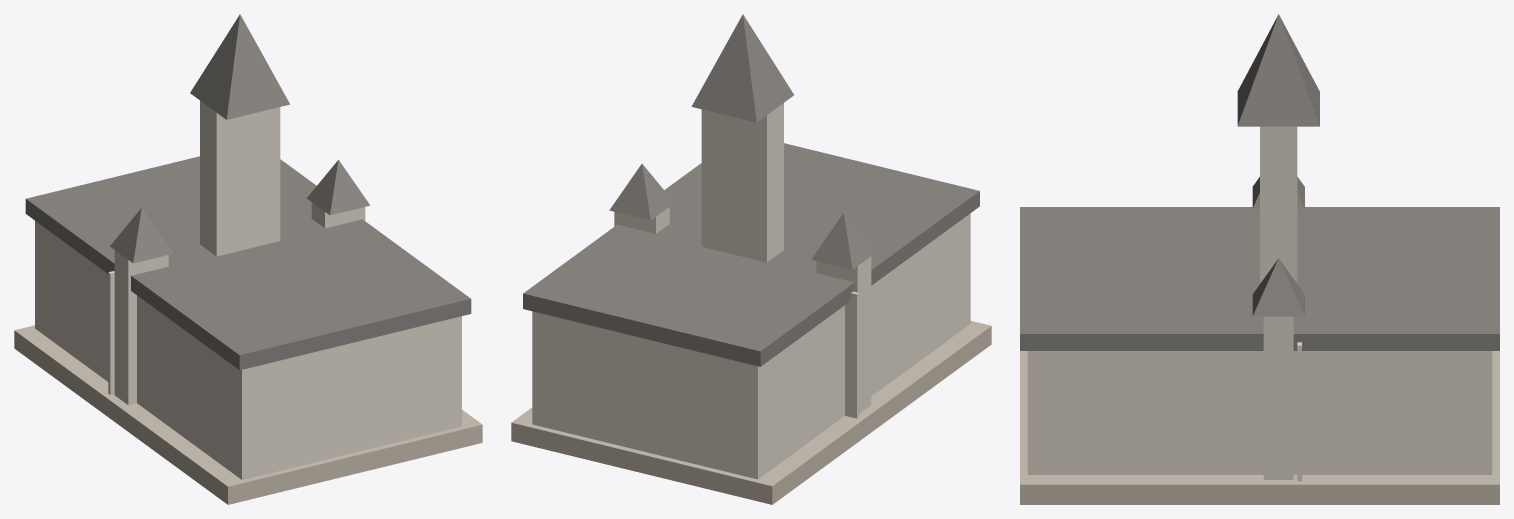
File: catedral_calama.glb
The picture shows the model from 3 angles, left to right: view 1: azimuth 30°, elevation 25°; view 2: azimuth 150°, elevation 25°; view 3: azimuth 270°, elevation 25°; orthographic projection. The views are drawn at different scales.
Parts seen in each view (by area): view 1: Nave, TechoNave, Plinto, TorreCentral, AgujaTorre, TorretaIzq, AgujaDer, AgujaIzq, Fachada, TorretaDer; view 2: Nave, TechoNave, Plinto, TorreCentral, AgujaTorre, TorretaIzq, AgujaDer, AgujaIzq, Fachada, TorretaDer; view 3: TechoNave, Nave, Plinto, AgujaTorre, TorreCentral, TorretaDer, AgujaDer, Fachada.
Boxes of the visible parts, x1,y1,x2,y2 form: Nave: (35, 221, 461, 479); TechoNave: (25, 156, 471, 370); Plinto: (14, 325, 482, 504); TorreCentral: (200, 101, 280, 256); AgujaTorre: (190, 14, 290, 119); TorretaIzq: (114, 250, 168, 404); AgujaDer: (306, 160, 370, 215); AgujaIzq: (110, 208, 173, 263); Fachada: (108, 271, 114, 394); TorretaDer: (311, 202, 365, 228); Nave: (532, 213, 970, 479); TechoNave: (523, 143, 979, 366); Plinto: (511, 321, 991, 504); TorreCentral: (701, 103, 783, 262); AgujaTorre: (691, 14, 793, 122); TorretaIzq: (816, 256, 871, 413); AgujaDer: (609, 163, 674, 220); AgujaIzq: (811, 213, 876, 269); Fachada: (845, 291, 858, 418); TorretaDer: (614, 207, 669, 233); TechoNave: (1020, 207, 1499, 350); Nave: (1027, 351, 1492, 474); Plinto: (1020, 351, 1499, 504); AgujaTorre: (1237, 14, 1319, 126); TorreCentral: (1260, 126, 1297, 283); TorretaDer: (1263, 316, 1293, 479); AgujaDer: (1252, 258, 1304, 316); Fachada: (1297, 342, 1301, 481).
Bounding box in the file's own units: 44 × 62 × 64.
